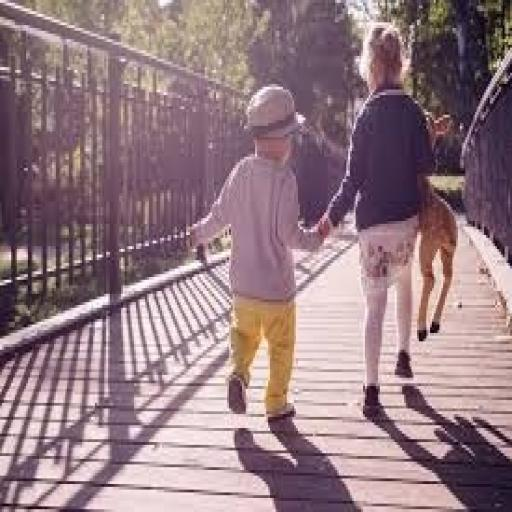running: (182, 81, 332, 423), (316, 19, 438, 417)
